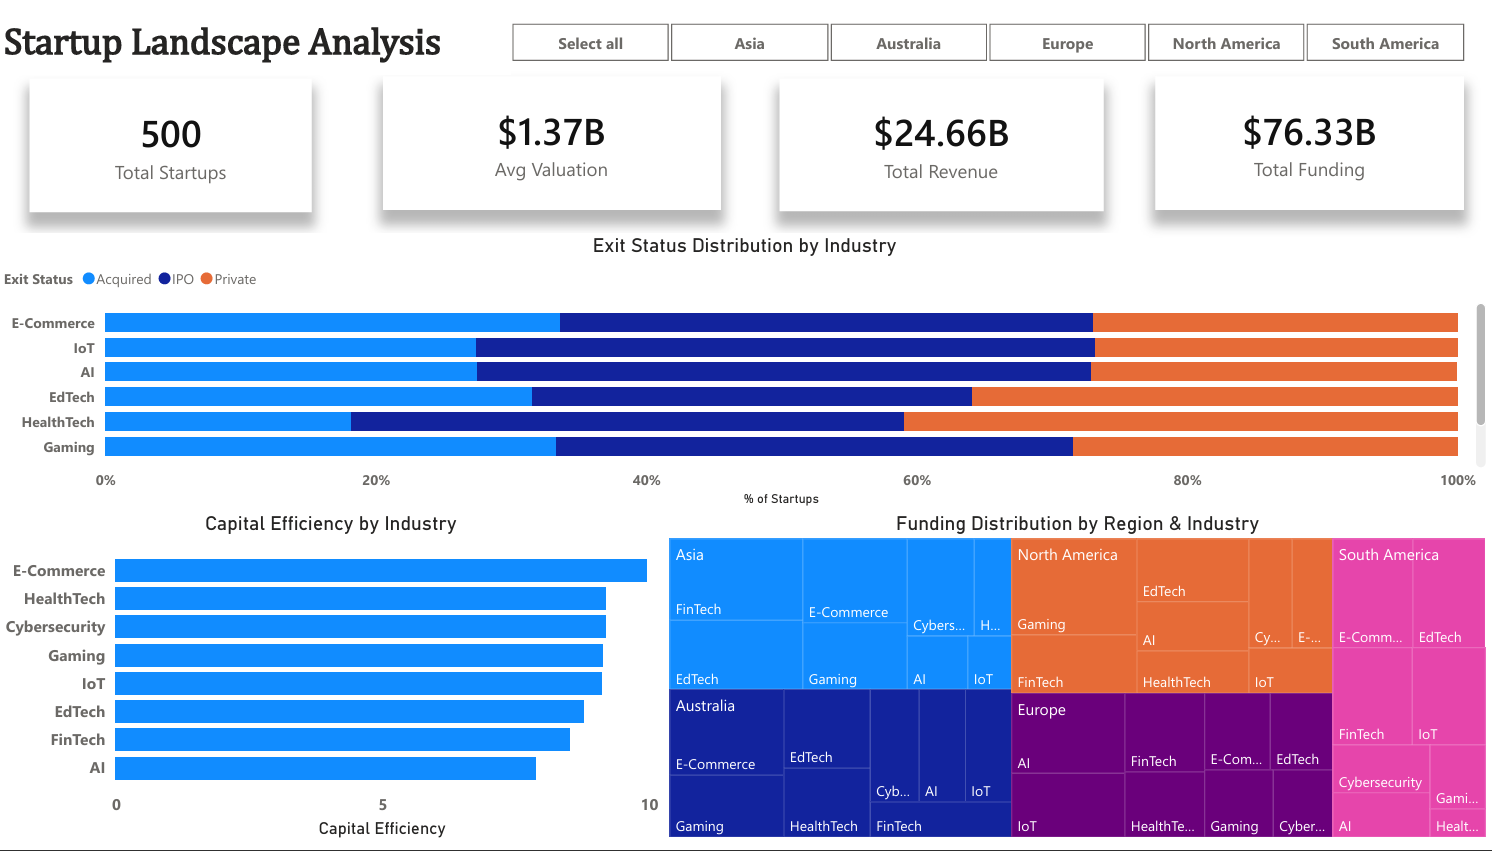

The dashboard page shown, as its layout file describes it:
{"tool":"powerbi","page":{"name":"StartUp","canvas":[1280,720],"ordinal":0},"visuals":[{"type":"cardVisual","fields":{"Data":["startup_data.Total Revenue"]},"box":[670.1,63.6,277.6,113.7],"z":0},{"type":"cardVisual","fields":{"Data":["CountNonNull(startup_data.Employees)"]},"box":[26.9,63.6,242.1,114.9],"z":1000},{"type":"cardVisual","fields":{"Data":["startup_data.Avg Valuation Display"]},"box":[330.2,62.4,289.8,114.9],"z":2000},{"type":"hundredPercentStackedBarChart","title":"Exit Status Distribution by Industry","fields":{"Category":["startup_data.Industry"],"Series":["startup_data.Exit Status"],"Y":["Avg(startup_data.Profitable)"]},"box":[0,196.9,1280.3,238.5],"z":3000},{"type":"cardVisual","fields":{"Data":["startup_data.Total Funding"]},"box":[991.7,62.4,265.4,114.9],"z":4000},{"type":"barChart","fields":{"Category":["startup_data.Industry"],"Y":["startup_data.Capital Efficiency"]},"box":[0,435.3,571.1,284.9],"z":5000},{"type":"textbox","box":[0,9.6,439.1,50.8],"z":6000},{"type":"treemap","title":"Funding Distribution by Region & Industry","fields":{"Group":["startup_data.Region"],"Details":["startup_data.Industry"],"Values":["startup_data.Funding Numeric"]},"box":[571.1,435.3,709.2,284.9],"z":7000},{"type":"slicer","fields":{"Values":["startup_data.Region"]},"box":[414.5,9.8,865.8,46.5],"z":8000}]}

Visuals, with their boxes in screenshot pixels (x1, y1, x2, y2), scaled from the page's 1280x720 canvas onto the 1492x851 screenshot:
cardVisual - startup_data.Total Revenue: l=781, t=75, r=1105, b=210
cardVisual - CountNonNull(startup_data.Employees): l=31, t=75, r=314, b=211
cardVisual - startup_data.Avg Valuation Display: l=385, t=74, r=723, b=210
"Exit Status Distribution by Industry" hundredPercentStackedBarChart: l=0, t=233, r=1491, b=515
cardVisual - startup_data.Total Funding: l=1156, t=74, r=1465, b=210
barChart - startup_data.Industry x startup_data.Capital Efficiency: l=0, t=515, r=666, b=850
textbox: l=0, t=11, r=512, b=71
"Funding Distribution by Region & Industry" treemap: l=666, t=515, r=1491, b=850
slicer - startup_data.Region: l=483, t=12, r=1491, b=67
